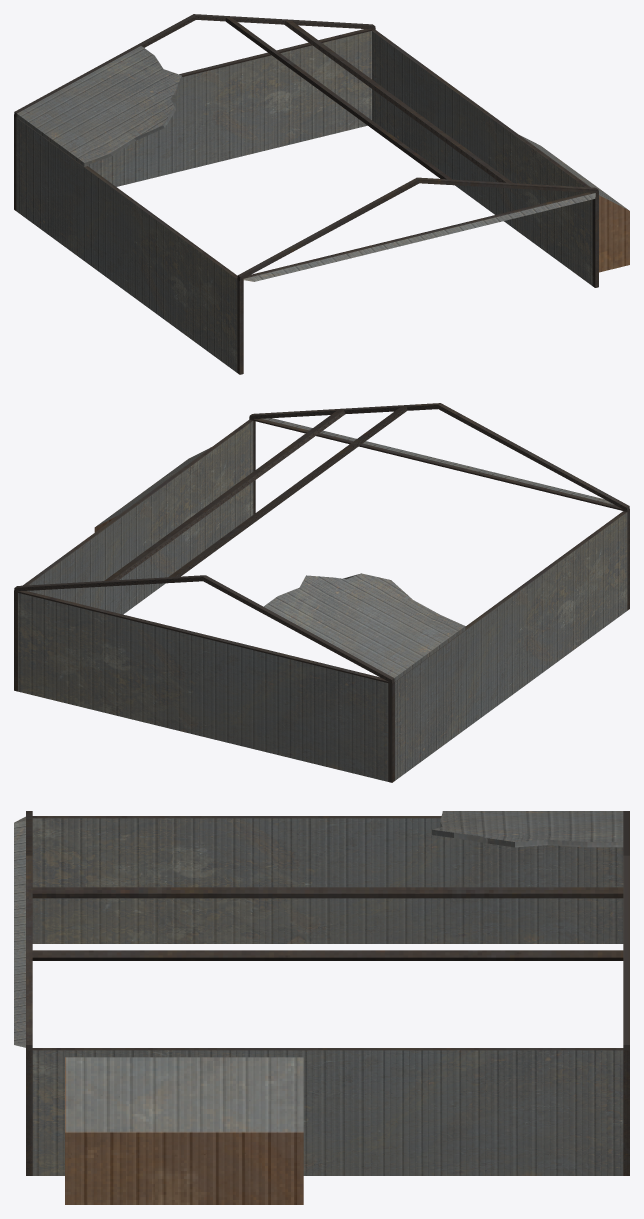
File: planehangar.fbx
3 renders of one model, top to bottom at view 1: azimuth 30°, elevation 25°; view 2: azimuth 150°, elevation 25°; view 3: azimuth 270°, elevation 25°, orthographic. The views are drawn at different scales.
Visible parts, largest first — view 1: Cube; view 2: Cube; view 3: Cube.
Part boxes in pixels (left/top/right/bottom): Cube: left=14, top=14, right=629, bottom=374; Cube: left=14, top=403, right=629, bottom=782; Cube: left=14, top=811, right=629, bottom=1204.
Bounding box in the file's own units: 3222 × 1154 × 3176.
